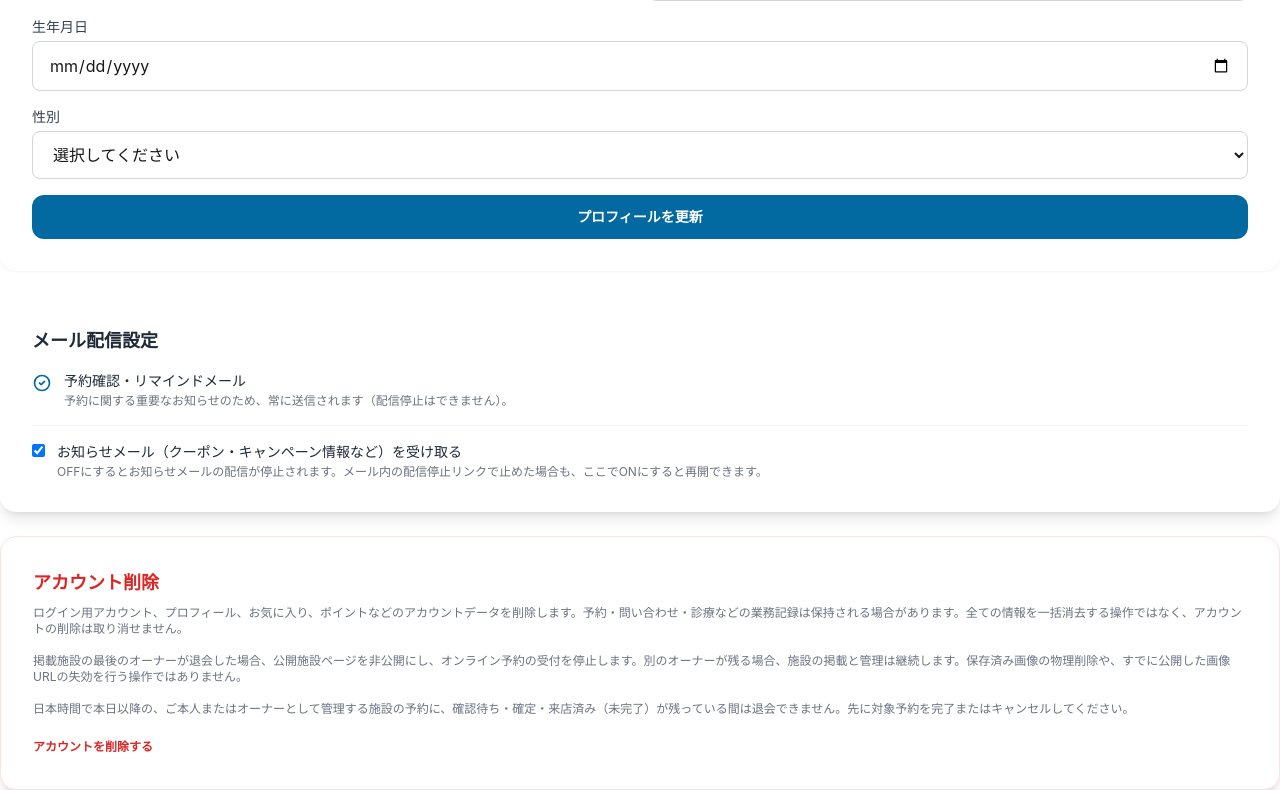
Test: OFF にすると API へ receive=false を送る
The image size is (1280, 790).
(page scrolled)
What coordinates should you click on to do the following:
click the checkbox labelled "お知らせメール（クーポン・キャンペーン情報など）を受け取る"
I would click on:
 (38, 450)
Its box is [32, 444, 45, 457].
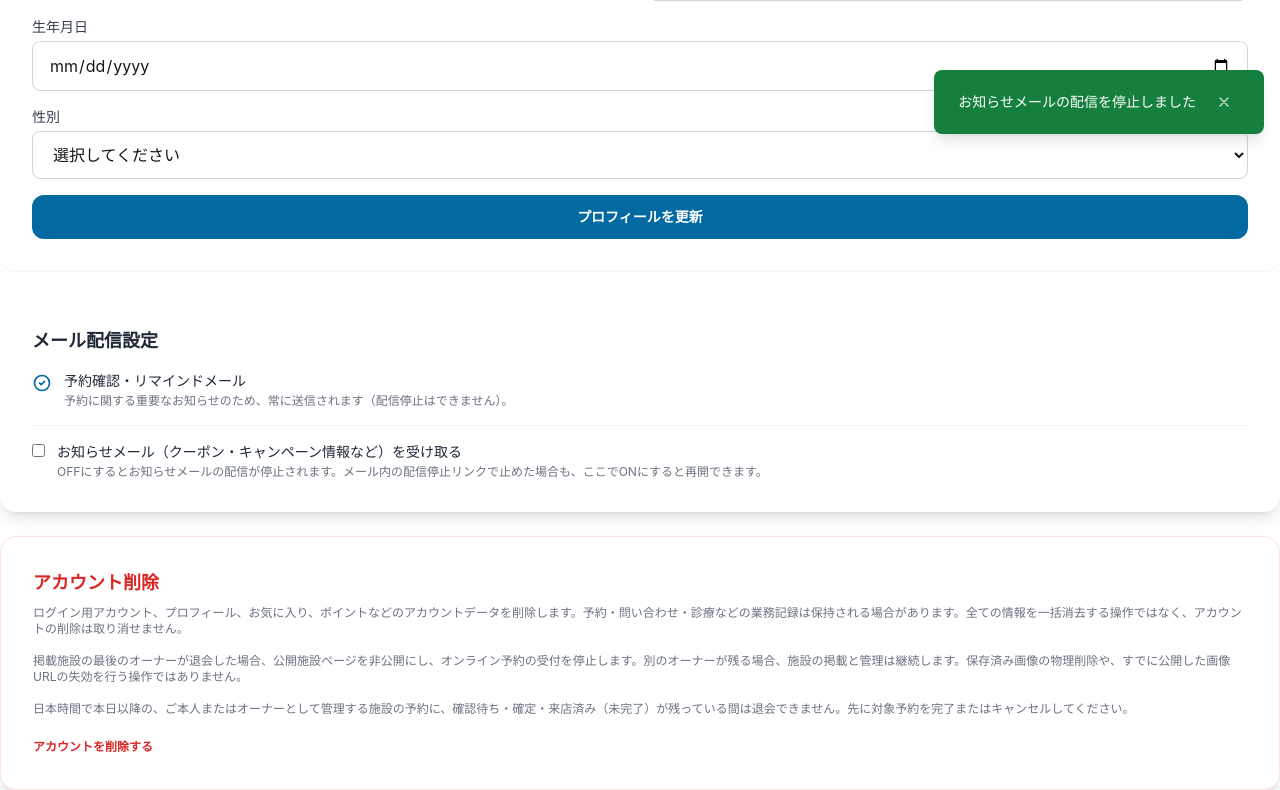
Now the checkbox labelled "お知らせメール（クーポン・キャンペーン情報など）を受け取る" is not checked, box [32, 444, 45, 457]
Now the text "お知らせメールの配信を停止しました" is shown, box [958, 92, 1196, 112]
